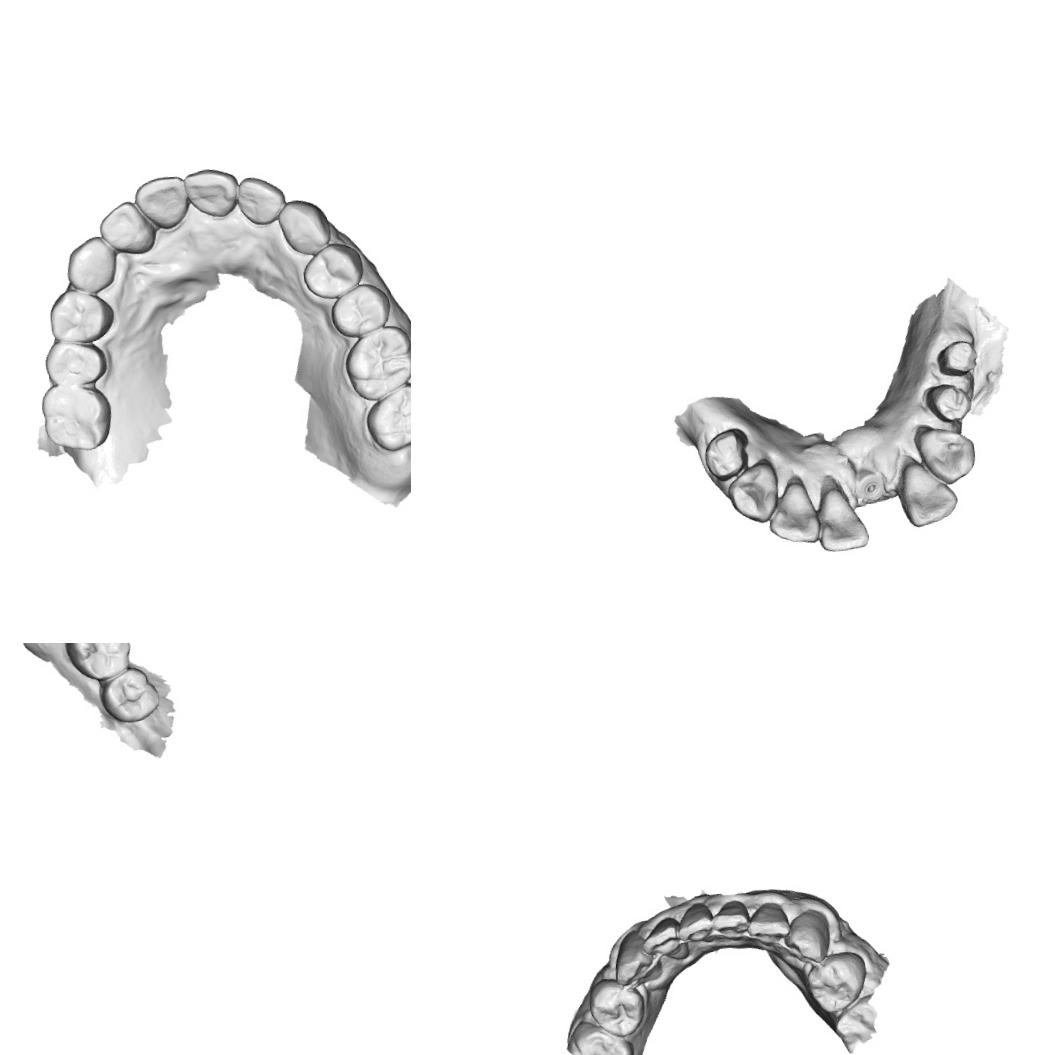canine: (917, 418, 982, 486), (60, 234, 122, 299), (274, 196, 336, 258), (726, 462, 782, 527), (610, 926, 664, 988), (782, 904, 836, 966)
crown: (699, 424, 754, 482), (932, 332, 982, 382), (925, 379, 976, 426)
implant: (854, 468, 888, 501)
incisor: (896, 454, 960, 530), (814, 473, 870, 556), (132, 170, 192, 234), (96, 198, 158, 258), (182, 162, 241, 222), (769, 482, 821, 548), (233, 171, 289, 228), (642, 916, 689, 965), (744, 898, 790, 948), (674, 897, 715, 948), (712, 897, 752, 944)
molar: (38, 380, 116, 455), (340, 322, 411, 404), (97, 663, 164, 726), (361, 380, 411, 454), (61, 643, 136, 684)
premolar: (800, 947, 873, 1017), (46, 284, 118, 348), (581, 976, 650, 1042), (298, 239, 366, 303), (327, 280, 393, 340), (41, 335, 110, 388)
